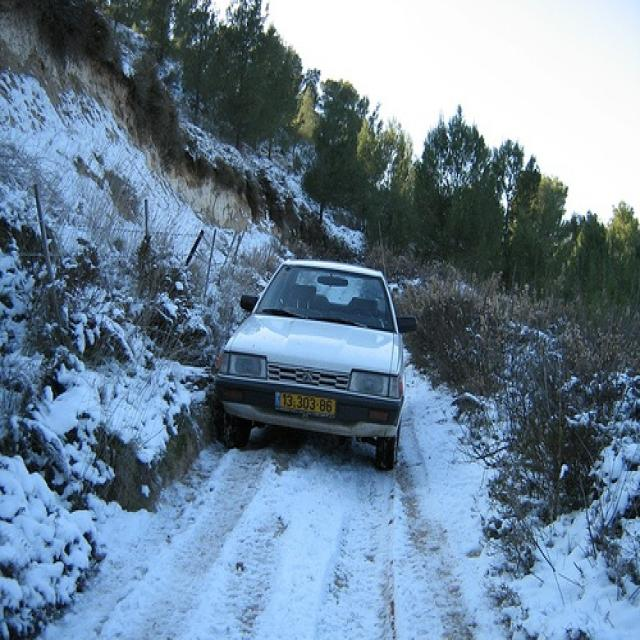car: (214, 256, 421, 474)
